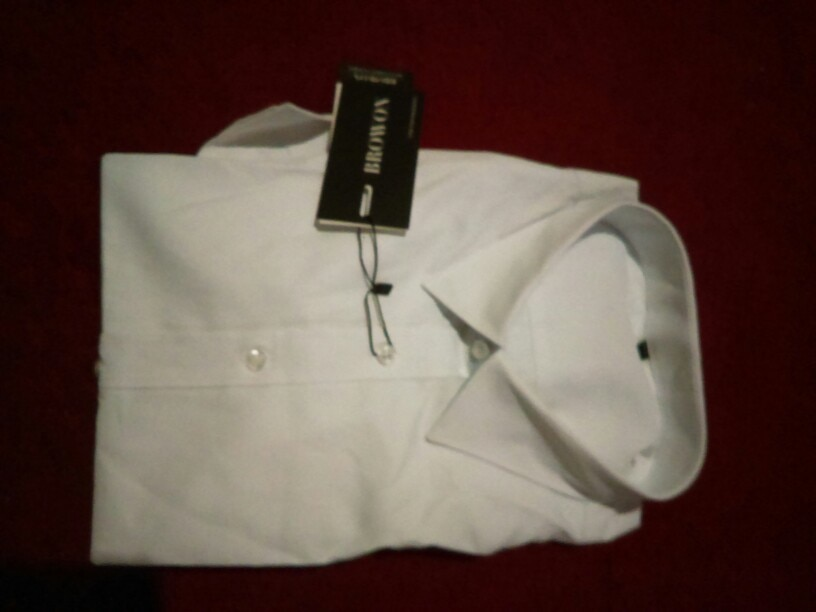shirts: (82, 125, 706, 572)
